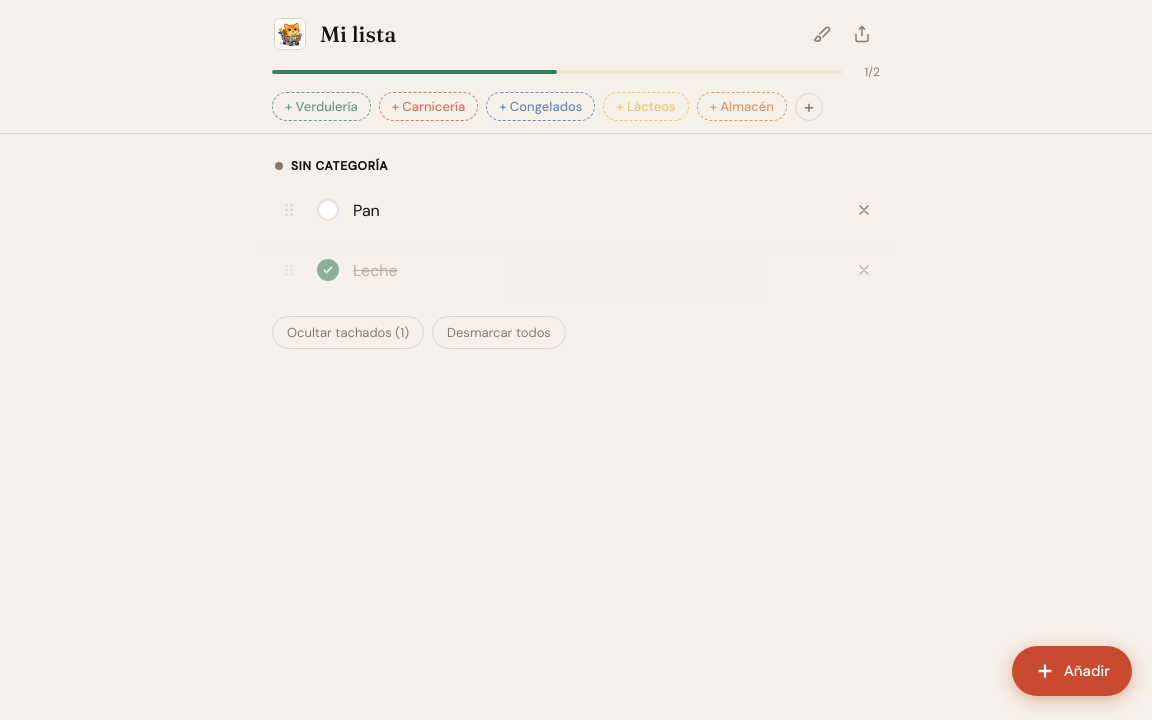
Test: ListPage › Limpiar closes the dialog after action
The image size is (1152, 720).
Expected: the heading "Mi lista" is shown, x1=320 y1=20 x2=396 y2=48
Click the button titled "Limpiar lista": (822,34) x1=804 y1=16 x2=840 y2=52
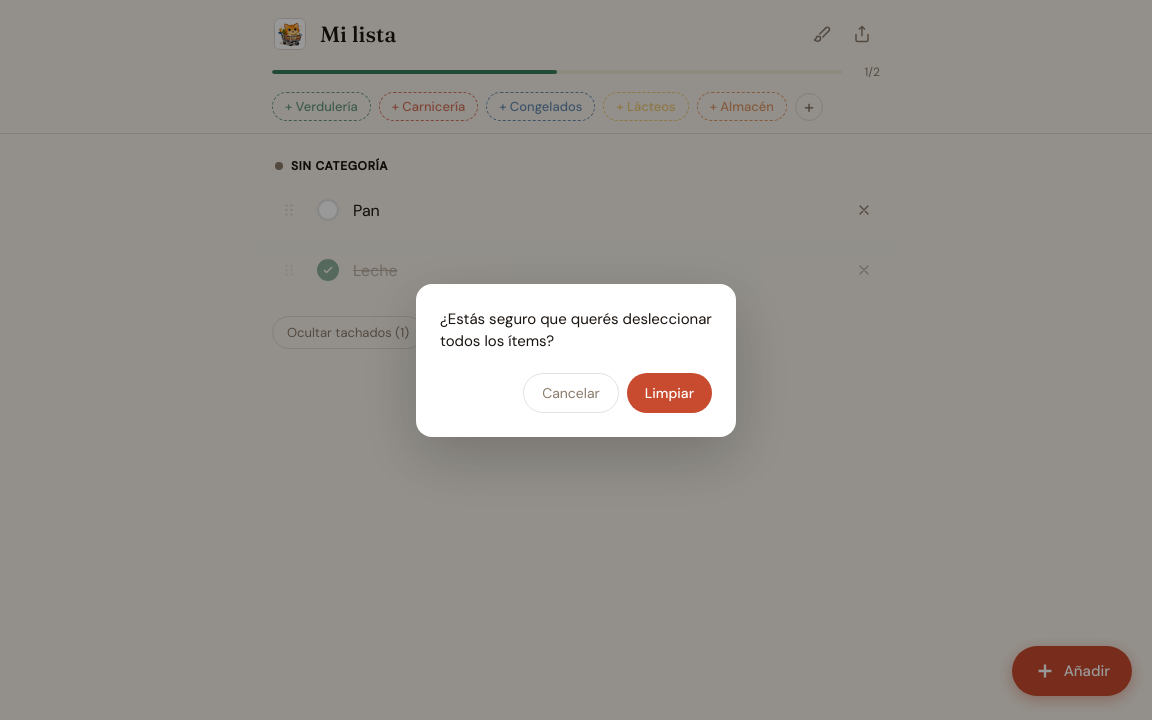
Click the button "Limpiar": (669,392) x1=627 y1=372 x2=712 y2=412
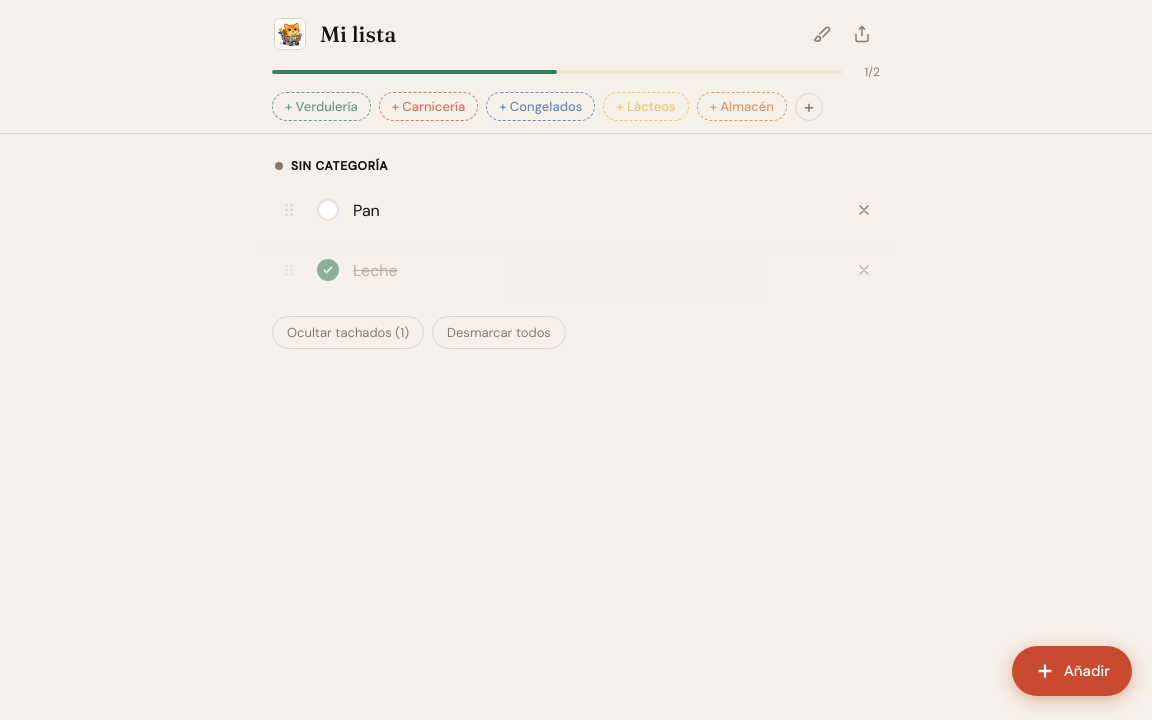
Result: the text "desleccionar todos los ítems" is gone
